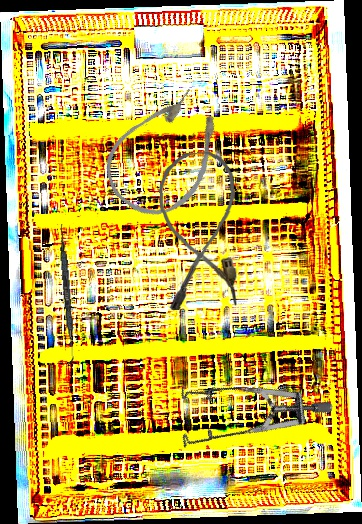Cannula: (89, 73, 244, 233), (157, 150, 241, 311)
Spatula Surgical: (55, 223, 79, 365)
Speculum: (157, 336, 335, 502)
